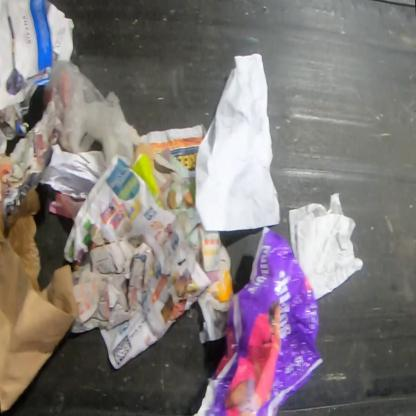cardboard: (0, 186, 81, 414), (70, 222, 155, 335)
soft_plastic: (191, 225, 325, 415), (41, 59, 142, 171)
